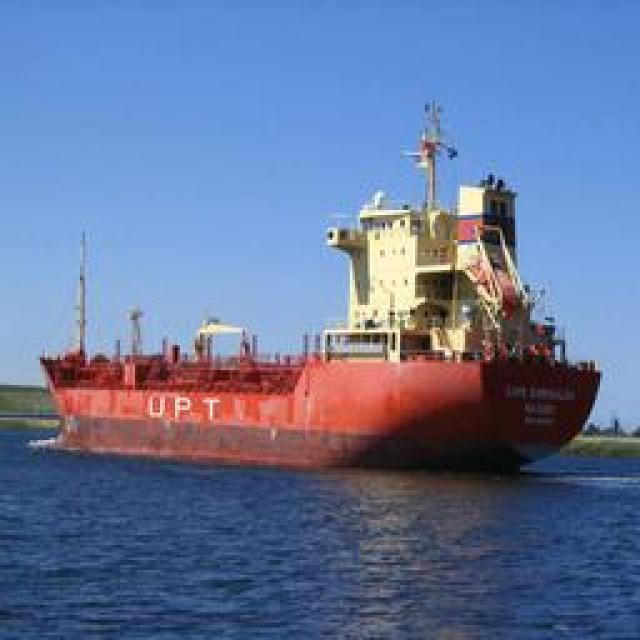ship2: (29, 104, 603, 476)
